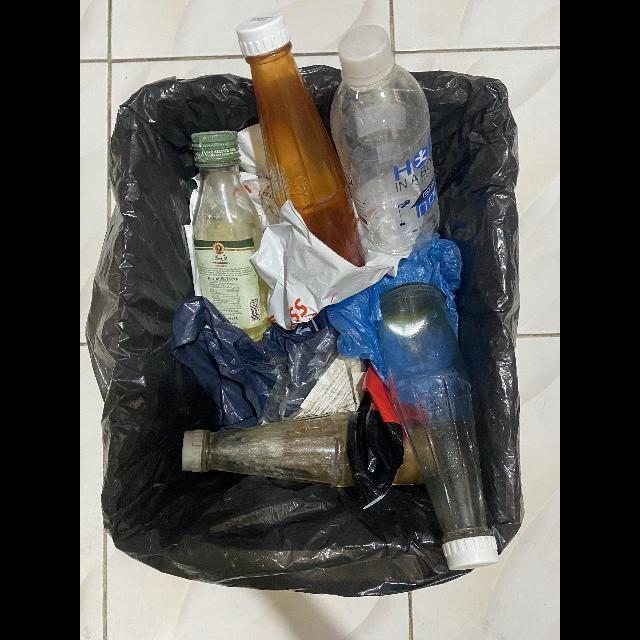glass_bottle: (379, 282, 499, 571), (236, 13, 367, 267), (181, 413, 422, 486), (192, 131, 273, 342)
plastic_bag: (184, 125, 396, 344), (171, 296, 372, 431), (326, 232, 462, 388)
plastic_bottle: (330, 24, 440, 257)
